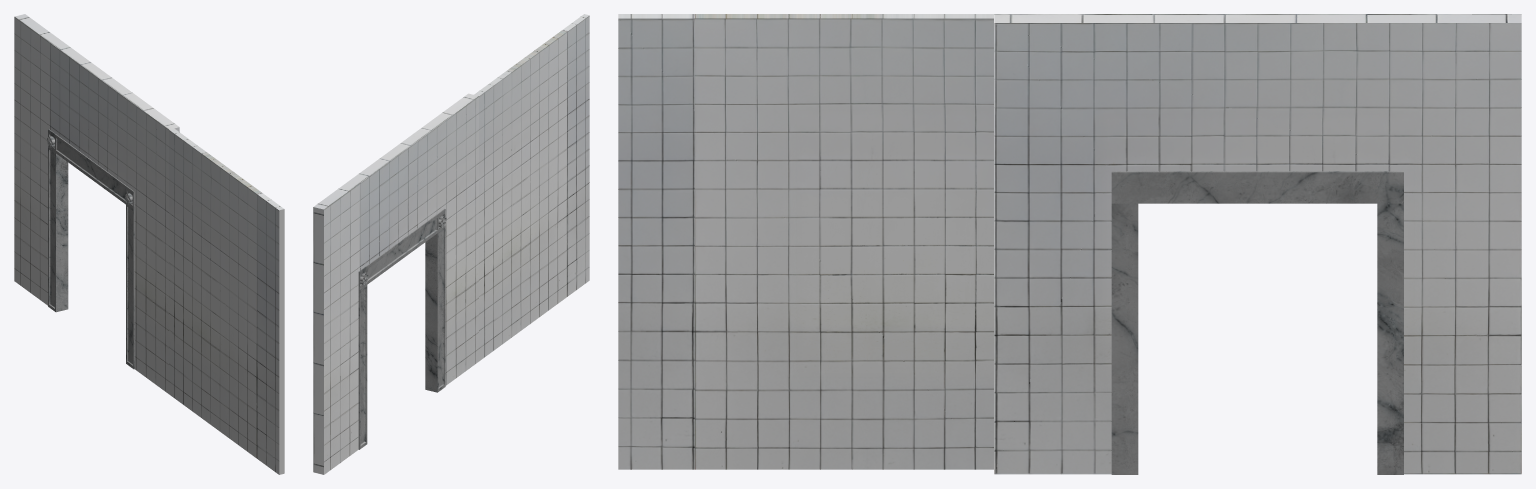
The model's file is SM_Marble01D.fbx.
The picture shows the model from 3 angles, left to right: view 1: azimuth 30°, elevation 25°; view 2: azimuth 150°, elevation 25°; view 3: azimuth 270°, elevation 25°; orthographic projection. The views are drawn at different scales.
Parts seen in each view (by area): view 1: SM_Marble01D; view 2: SM_Marble01D; view 3: SM_Marble01D.
Boxes of the visible parts, x1,y1,x2,y2 form: SM_Marble01D: [14, 14, 284, 474]; SM_Marble01D: [313, 14, 589, 474]; SM_Marble01D: [618, 14, 1521, 474].
Bounding box in the file's own units: 13.98 × 420 × 231.
